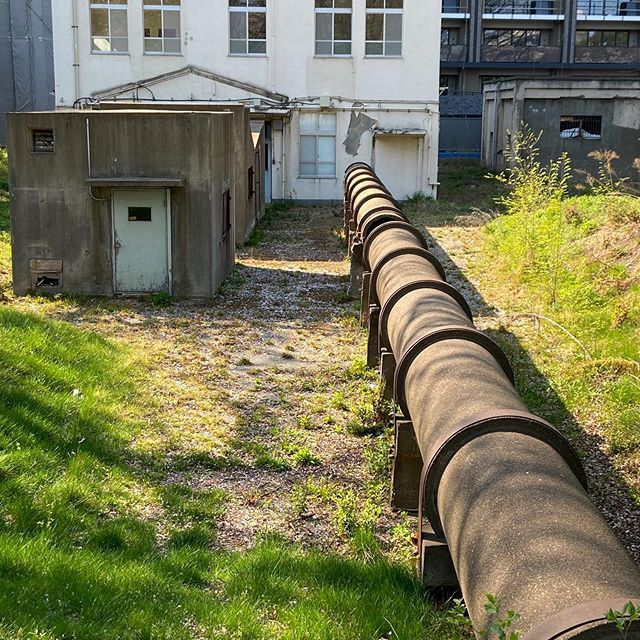building: (72, 1, 433, 195), (9, 106, 280, 303), (472, 72, 640, 198)
grass: (1, 308, 356, 640), (456, 169, 640, 433)
